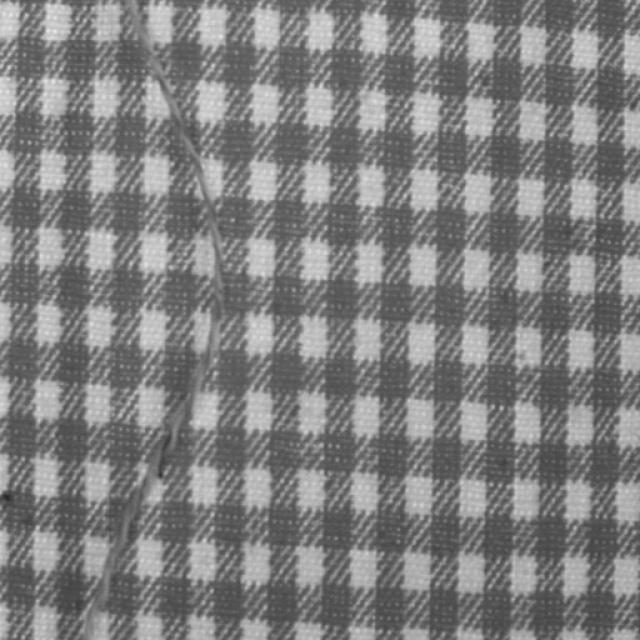Foreign-Body-Defect: (82, 0, 224, 639)
